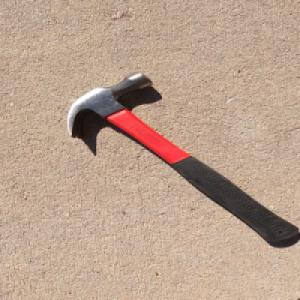Hammer: (63, 70, 300, 250)
